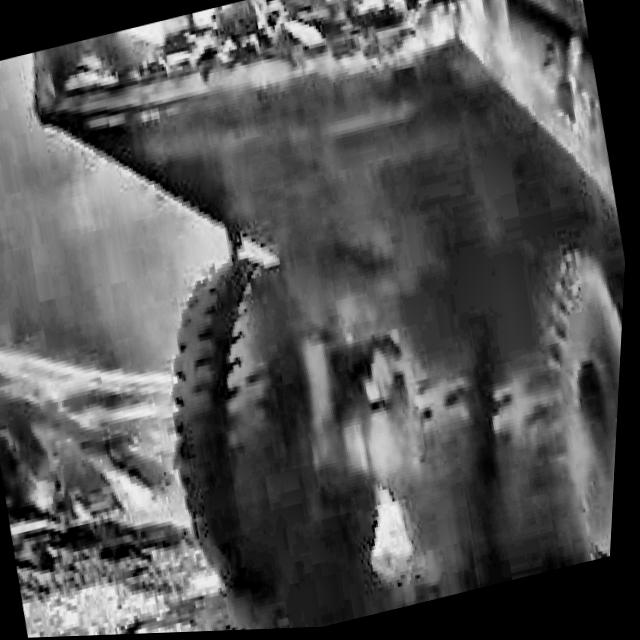dump_truck: (8, 0, 640, 639)
